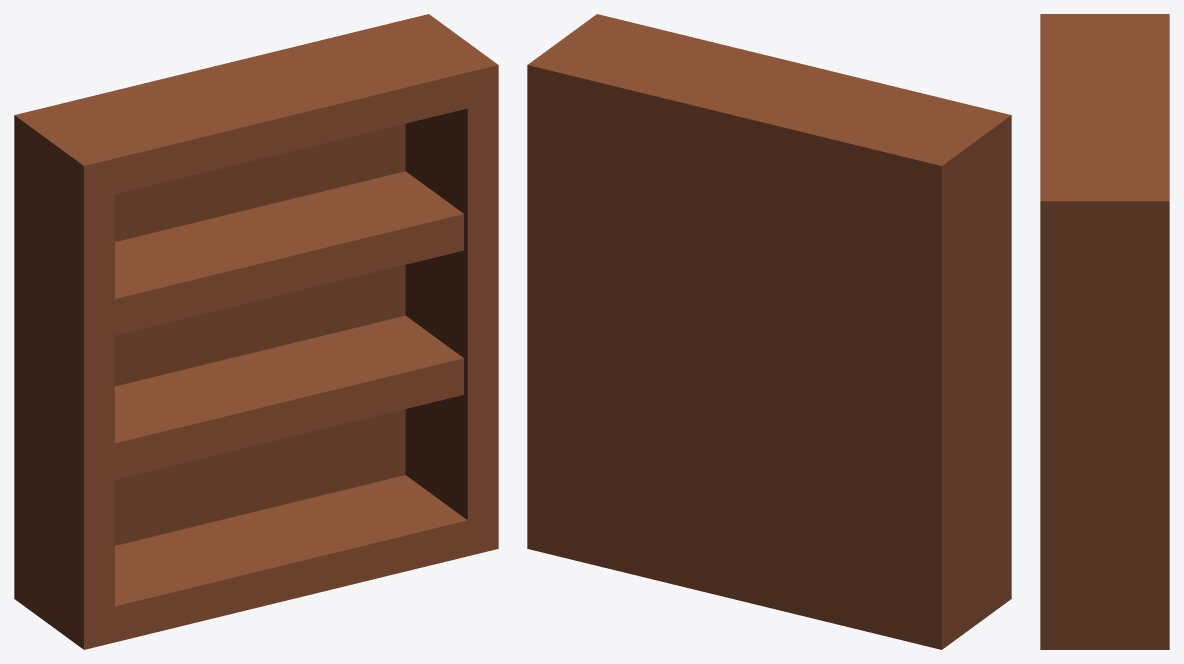
The model's file is AI_Prop_BookShelf_Small.fbx.
3 renders of one model, left to right at view 1: azimuth 30°, elevation 25°; view 2: azimuth 150°, elevation 25°; view 3: azimuth 270°, elevation 25°, orthographic. The views are drawn at different scales.
Parts seen in each view (by area): view 1: AI_Prop_BookShelf_Small; view 2: AI_Prop_BookShelf_Small; view 3: AI_Prop_BookShelf_Small.
Part boxes in pixels (bbox=[...]): AI_Prop_BookShelf_Small: bbox=[14, 14, 498, 649]; AI_Prop_BookShelf_Small: bbox=[527, 14, 1011, 649]; AI_Prop_BookShelf_Small: bbox=[1040, 14, 1169, 649].
Bounding box in the file's own units: 1.52 × 1.7 × 0.4426.
